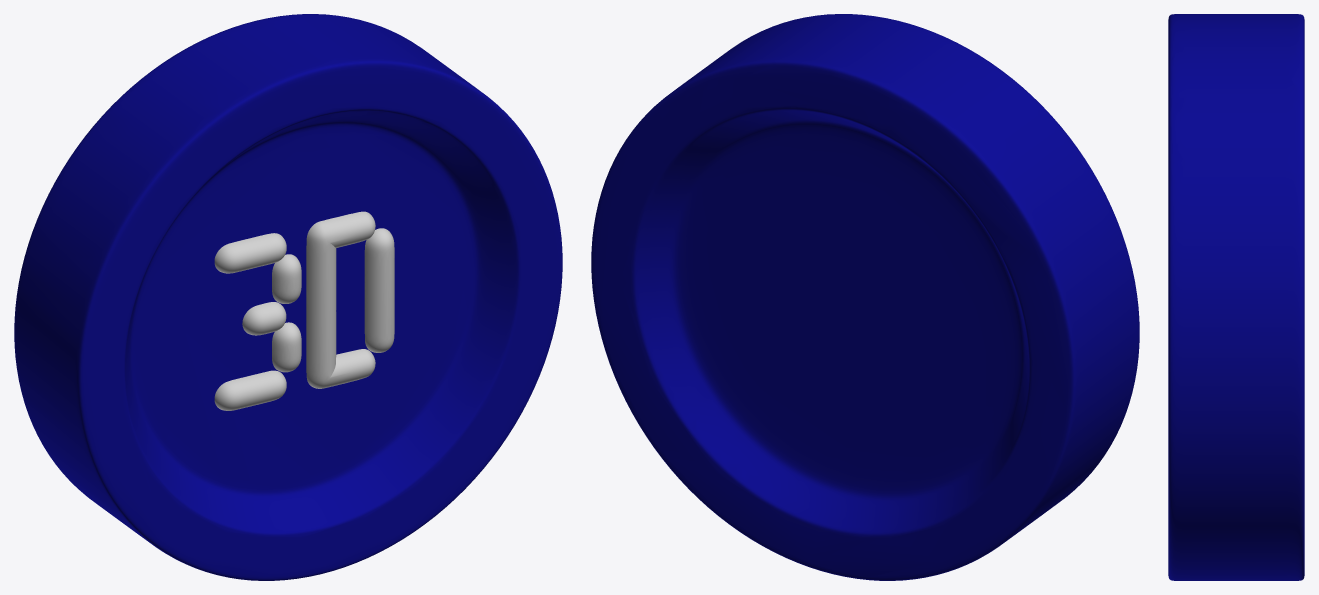
Rendered from 3d-coin.glb.
3 renders of one model, left to right at view 1: azimuth 30°, elevation 25°; view 2: azimuth 150°, elevation 25°; view 3: azimuth 270°, elevation 25°, orthographic.
Parts seen in each view (by area): view 1: 3D; view 2: 3D; view 3: 3D.
Boxes of the visible parts, x1,y1,x2,y2 form: 3D: (14,14,562,580); 3D: (591,14,1139,580); 3D: (1168,14,1304,580).
Size of the model in its own units: 1.86 by 1.86 by 0.448.
